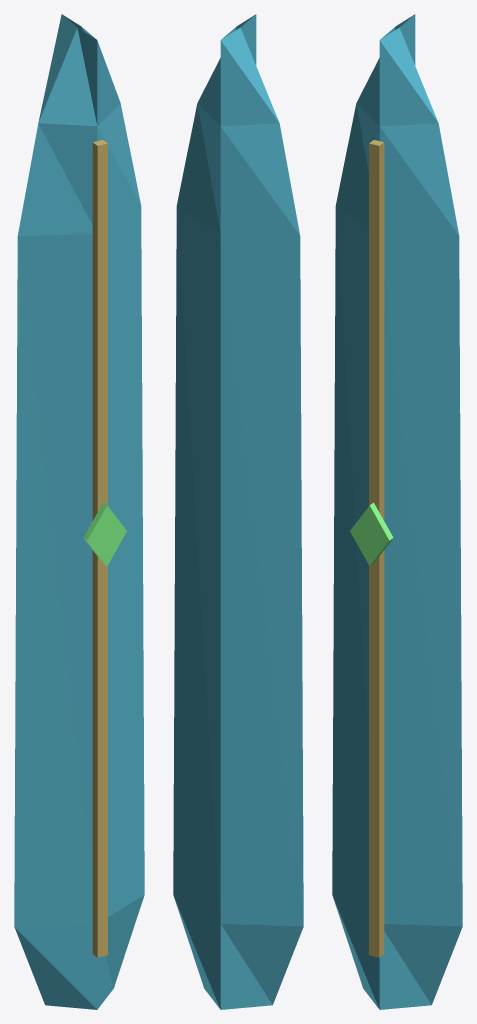
File: crystal.obj
3 renders of one model, left to right at view 1: azimuth 30°, elevation 25°; view 2: azimuth 150°, elevation 25°; view 3: azimuth 330°, elevation 25°, orthographic.
Visible parts, largest first — view 1: crystal_blade_left, crystal_blade_right, crystal_ridge, crystal_ridge_edge, crystal_vein, crystal_blade_back_left; view 2: crystal_blade_back_left, crystal_blade_back_right, crystal_blade_left; view 3: crystal_blade_right, crystal_blade_left, crystal_ridge, crystal_ridge_edge, crystal_vein, crystal_blade_back_right.
Boxes of the visible parts, x1,y1,x2,y2 form: crystal_blade_left: (14, 27, 97, 1009); crystal_blade_right: (82, 27, 144, 1009); crystal_ridge: (97, 143, 107, 957); crystal_ridge_edge: (92, 140, 107, 957); crystal_vein: (87, 505, 126, 565); crystal_blade_back_left: (38, 14, 77, 122); crystal_blade_back_left: (220, 27, 303, 1009); crystal_blade_back_right: (173, 27, 236, 1009); crystal_blade_left: (240, 14, 256, 65); crystal_blade_right: (379, 27, 462, 1009); crystal_blade_left: (332, 27, 395, 1009); crystal_ridge: (369, 143, 379, 957); crystal_ridge_edge: (369, 140, 384, 957); crystal_vein: (350, 505, 389, 565); crystal_blade_back_right: (399, 14, 415, 65).
Bounding box in the file's own units: 0.38 × 2.7 × 0.2302.
